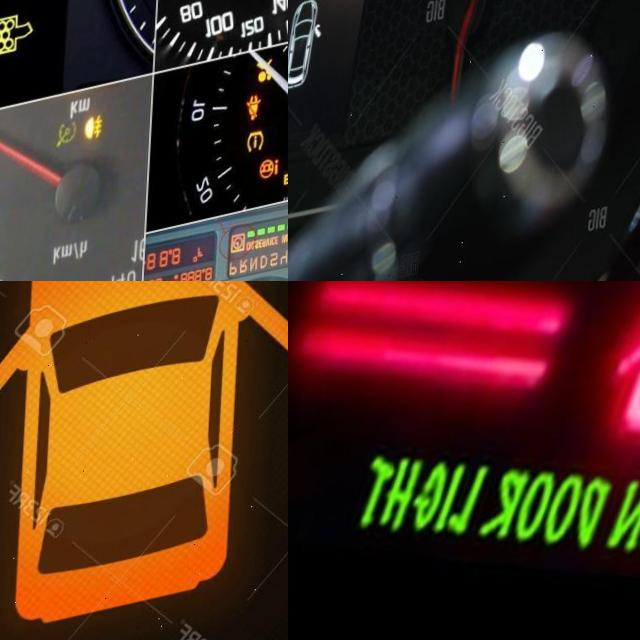Electronic Power Steering: (263, 177, 286, 204)
Seat Belt: (250, 114, 267, 143)
